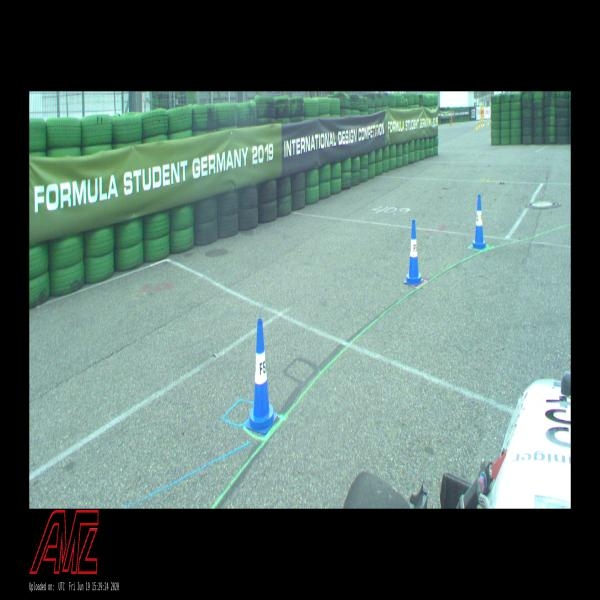blue_cone: (246, 318, 278, 434), (404, 220, 423, 286), (472, 194, 486, 250)
yellow_cone: (476, 122, 478, 130), (478, 121, 480, 128), (487, 118, 489, 125), (481, 120, 482, 126), (483, 120, 484, 126)
